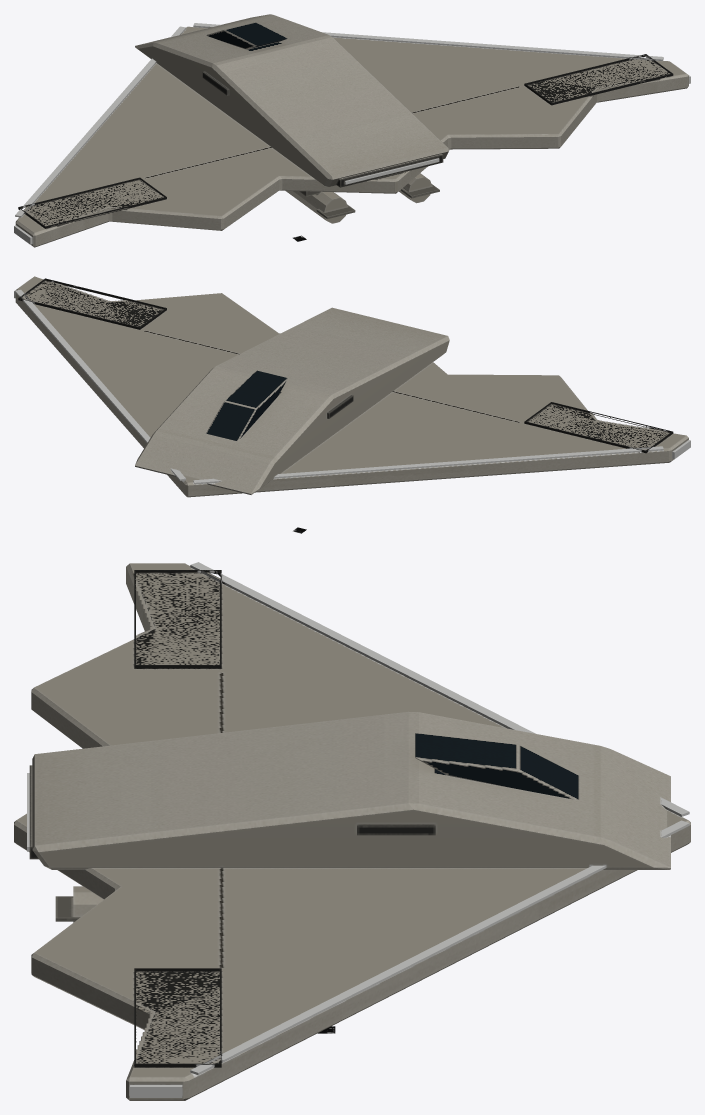
The model's file is ord_phantom.fbx.
The picture shows the model from 3 angles, top to bottom: view 1: azimuth 30°, elevation 25°; view 2: azimuth 150°, elevation 25°; view 3: azimuth 270°, elevation 25°; orthographic projection. The views are drawn at different scales.
Parts seen in each view (by area): view 1: base_bar, base_glow_running_bar, pylon_bar; view 2: base_bar, base_glow_running_bar; view 3: base_bar, base_glow_running_bar, pylon_bar.
Part boxes in pixels (x1,y1,x2,y2): base_bar: (15,14,688,247); base_glow_running_bar: (14,23,690,244); pylon_bar: (286,166,439,223); base_bar: (15,276,688,497); base_glow_running_bar: (14,280,690,484); base_bar: (14,563,690,1100); base_glow_running_bar: (27,562,689,1097); pylon_bar: (55,886,103,922).
Size of the model in its own units: 1410 by 360 by 775.
2 materials, 2 textured.
